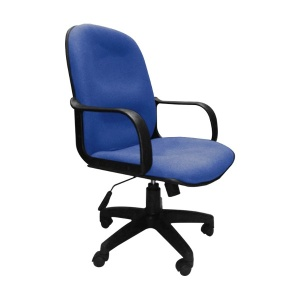chair: (64, 24, 236, 277)
